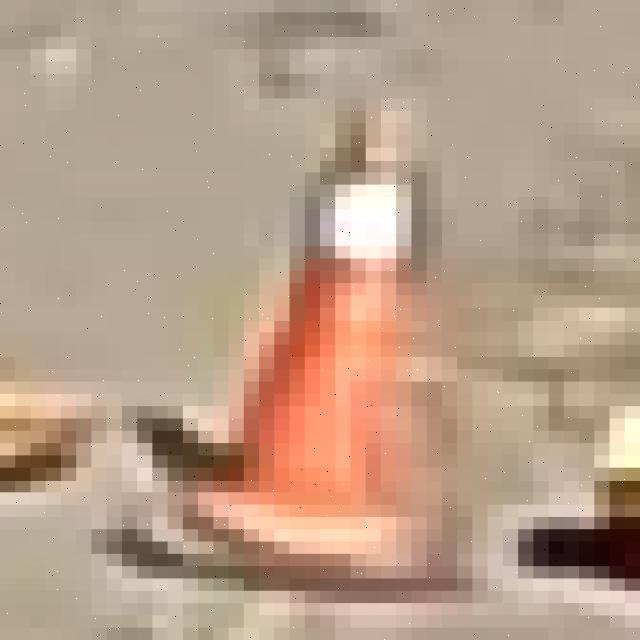small_cone: (198, 135, 457, 578)
